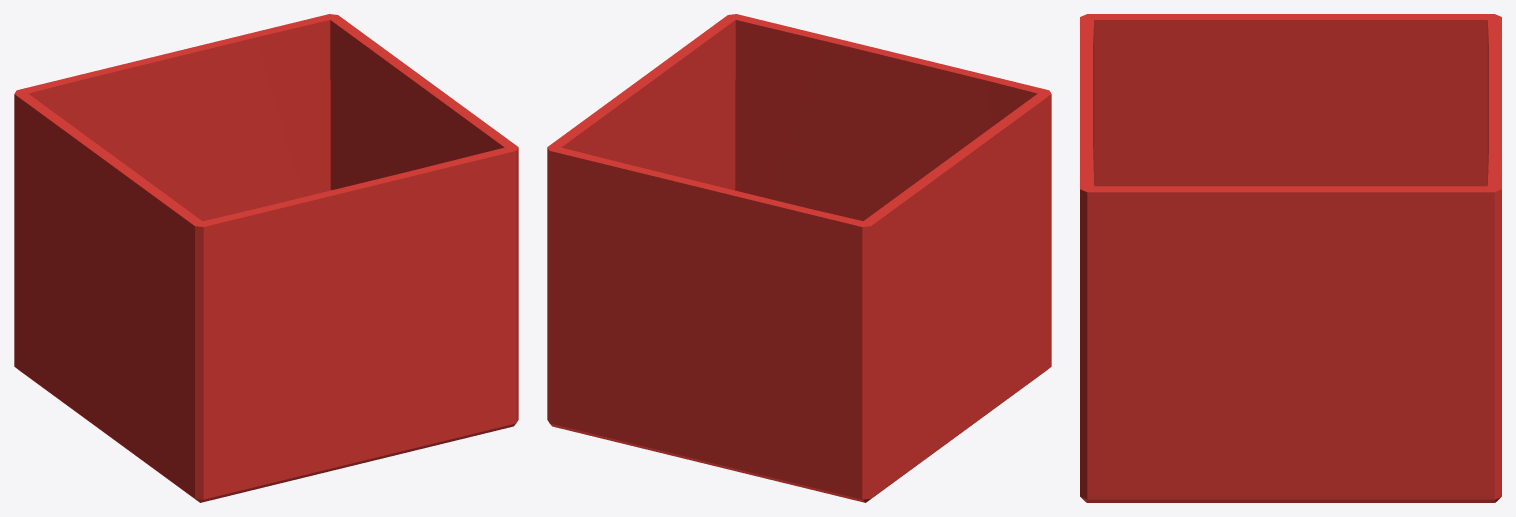
Rendered from SM_Gift_Christmas_Cube_Open_Base.fbx.
The picture shows the model from 3 angles, left to right: view 1: azimuth 30°, elevation 25°; view 2: azimuth 150°, elevation 25°; view 3: azimuth 270°, elevation 25°; orthographic projection. The views are drawn at different scales.
Visible parts, largest first — view 1: gift-christmas-cube-open-base; view 2: gift-christmas-cube-open-base; view 3: gift-christmas-cube-open-base.
Part boxes in pixels (x1,y1,x2,y2): gift-christmas-cube-open-base: (14,14,518,502); gift-christmas-cube-open-base: (547,14,1051,502); gift-christmas-cube-open-base: (1080,14,1501,502).
Size of the model in its own units: 0.3 by 0.2461 by 0.3.
